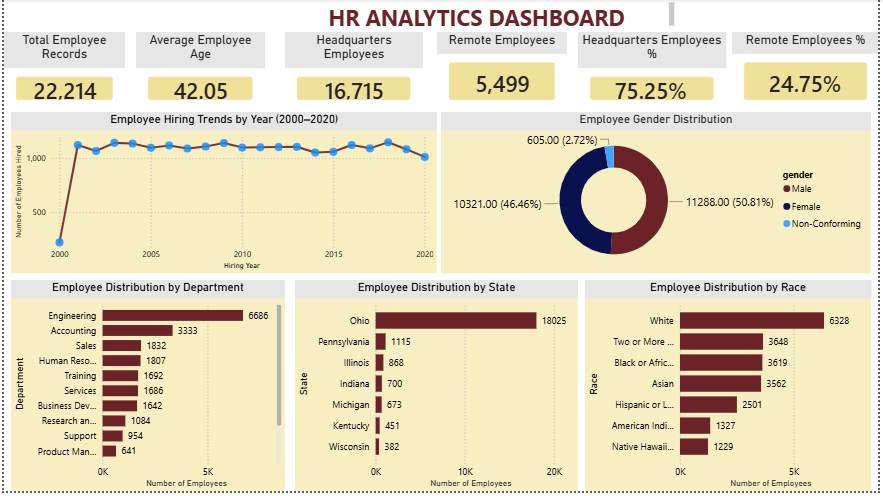

The page's visual inventory and layout, read from the dashboard file:
{"tool":"powerbi","page":{"name":"HR Overview","canvas":[1280,720],"ordinal":0},"visuals":[{"type":"cardVisual","title":"Total Employee Records","fields":{"Data":["CountNonNull(HR.id)"]},"box":[0,0,177.1,117.1],"z":0},{"type":"cardVisual","title":"Average Employee Age","fields":{"Data":["Avg(HR.Corrected_Age)"]},"box":[193.2,0,188.8,117.1],"z":1000},{"type":"cardVisual","title":"Headquarters Employees","fields":{"Data":["CountNonNull(HR.location)"]},"box":[399.5,0,202,117.1],"z":2000},{"type":"cardVisual","title":"Remote Employees ","fields":{"Data":["CountNonNull(HR.location)"]},"box":[617.6,0,190.2,117.1],"z":3000},{"type":"cardVisual","title":"Headquarters Employees %","fields":{"Data":["HR.Headquarters Percentage"]},"box":[825.4,0,216.6,117.1],"z":4000},{"type":"cardVisual","title":"Remote Employees %","fields":{"Data":["HR.Remote Percentage"]},"box":[1065.4,0,215.1,117.1],"z":5000},{"type":"lineChart","title":"Employee Hiring Trends by Year (2000–2020)","fields":{"Category":["HR.hire_date.Variation.Date Hierarchy.Year"],"Y":["CountNonNull(HR.id)"]},"box":[10.2,117.1,607.3,283.9],"z":6000},{"type":"donutChart","title":"Employee Gender Distribution","fields":{"Y":["CountNonNull(HR.id)"],"Category":["HR.gender"]},"box":[639.5,117.1,617.6,283.9],"z":7000},{"type":"clusteredBarChart","title":"Employee Distribution by Department","fields":{"Y":["CountNonNull(HR.id)"],"Category":["HR.department"]},"box":[10.2,411.2,401,308.8],"z":8000},{"type":"clusteredBarChart","title":"Employee Distribution by State","fields":{"Y":["CountNonNull(HR.id)"],"Category":["HR.location_state"]},"box":[425.9,411.2,414.1,308.8],"z":8001},{"type":"clusteredBarChart","title":"Employee Distribution by Race","fields":{"Y":["CountNonNull(HR.id)"],"Category":["HR.race"]},"box":[850.2,411.2,418.5,308.8],"z":8002}]}

Visuals, with their boxes in screenshot pixels (x1, y1, x2, y2), scaled from the page's 1280x720 canvas onto the 883x496 screenshot:
"Total Employee Records" cardVisual: rect(0, 0, 122, 81)
"Average Employee Age" cardVisual: rect(133, 0, 264, 81)
"Headquarters Employees" cardVisual: rect(276, 0, 415, 81)
"Remote Employees " cardVisual: rect(426, 0, 557, 81)
"Headquarters Employees %" cardVisual: rect(569, 0, 719, 81)
"Remote Employees %" cardVisual: rect(735, 0, 882, 81)
"Employee Hiring Trends by Year (2000–2020)" lineChart: rect(7, 81, 426, 276)
"Employee Gender Distribution" donutChart: rect(441, 81, 867, 276)
"Employee Distribution by Department" clusteredBarChart: rect(7, 283, 284, 495)
"Employee Distribution by State" clusteredBarChart: rect(294, 283, 579, 495)
"Employee Distribution by Race" clusteredBarChart: rect(587, 283, 875, 495)
